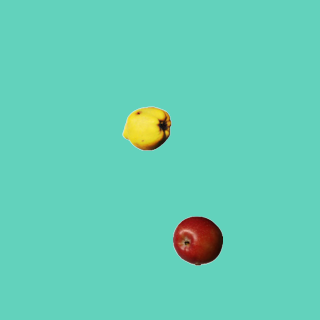Apple Braeburn: (172, 215, 222, 265)
Quince: (121, 103, 171, 153)
